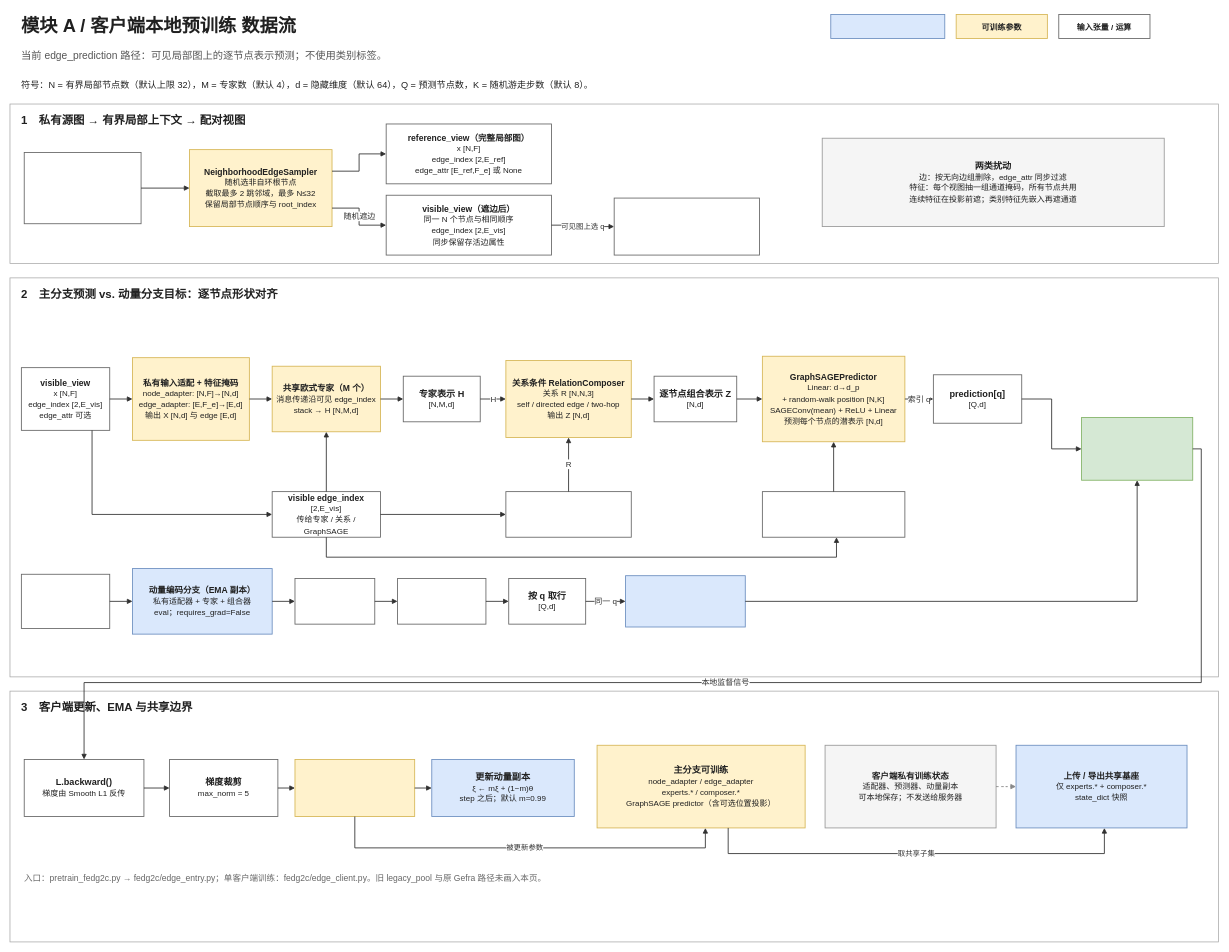
The diagram is 1229 pixels wide and 952 high, and some of its shapes have lost their labels. The centre of each missing label's shape, as x and y in pixels:
"AdamW.step() 更新当前客户端主分支" belongs at pixel 354 788.
"prediction_indices q 从可见图 root 周围取 1 跳区域 局部行索引 [Q]；不是模型特征" belongs at pixel 686 226.
"random_walk_encoding diag(T¹)…diag(Tᴷ) position [N,K]" belongs at pixel 833 514.
"reference_view 完整局部图 [N,F] [2,E_ref] 与完整边属性" belongs at pixel 65 601.
"reference（stop-gradient） [Q,d]" belongs at pixel 685 601.
"Smooth L1 损失 prediction [Q,d] reference [Q,d] 平均到标量 L" belongs at pixel 1137 448.
"structural_relations 由可见边重建 R [N,N,3]" belongs at pixel 568 514.
"冻结参数 / 无梯度参考" belongs at pixel 887 26.
"完整视图表示 [N,d]" belongs at pixel 334 601.
"客户端私有图 x [N_src,F] edge_index [2,E] edge_attr [E,F_e]（可选）" belongs at pixel 82 188.
"逐节点 LayerNorm [N,d]" belongs at pixel 441 601.
